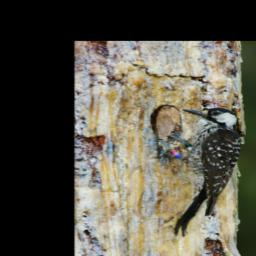Woodpecker: (158, 107, 244, 236)
